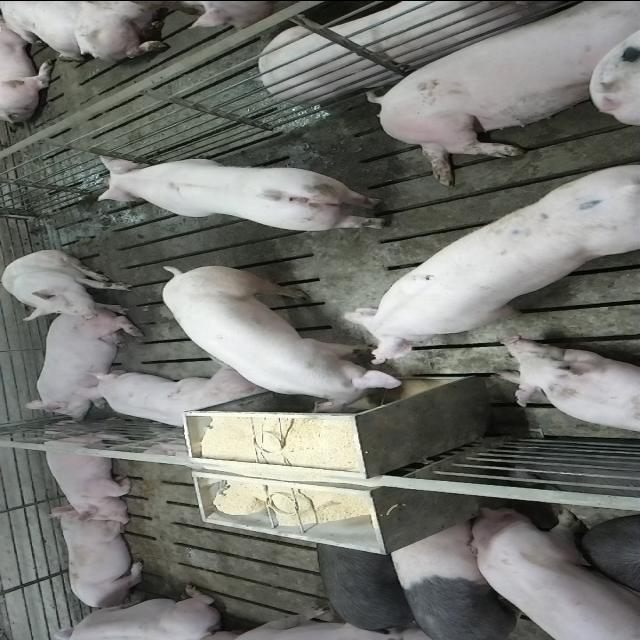Feeding: (161, 270, 408, 418)
Lateral_lying: (362, 5, 636, 186), (257, 0, 574, 103)
Sitting: (2, 249, 136, 320)
Standing: (331, 158, 635, 364), (100, 152, 398, 232), (463, 504, 640, 638), (388, 516, 560, 638), (314, 534, 422, 635)
Sternal_lying: (496, 338, 640, 436), (21, 313, 139, 423), (84, 370, 268, 430), (39, 584, 226, 638), (52, 508, 150, 610), (38, 425, 138, 521)
